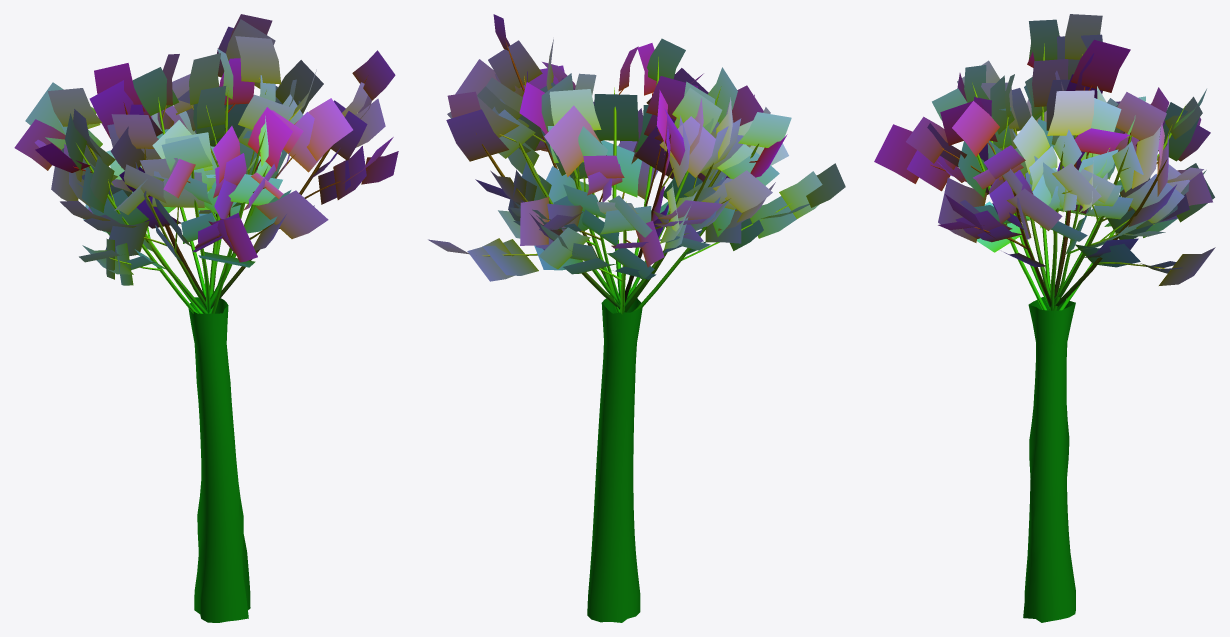
Rendered from acer_campestre_arbustum.glb.
3 renders of one model, left to right at view 1: azimuth 30°, elevation 25°; view 2: azimuth 150°, elevation 25°; view 3: azimuth 270°, elevation 25°, orthographic. The views are drawn at different scales.
Parts seen in each view (by area): view 1: acer_campestre_arbustum_lod0; view 2: acer_campestre_arbustum_lod0; view 3: acer_campestre_arbustum_lod0.
Boxes of the visible parts, x1,y1,x2,y2 form: acer_campestre_arbustum_lod0: (14,14,398,622); acer_campestre_arbustum_lod0: (428,14,845,622); acer_campestre_arbustum_lod0: (874,14,1215,622).
Size of what is drawn, in the model's own units: 3.88 by 6.06 by 3.44.
